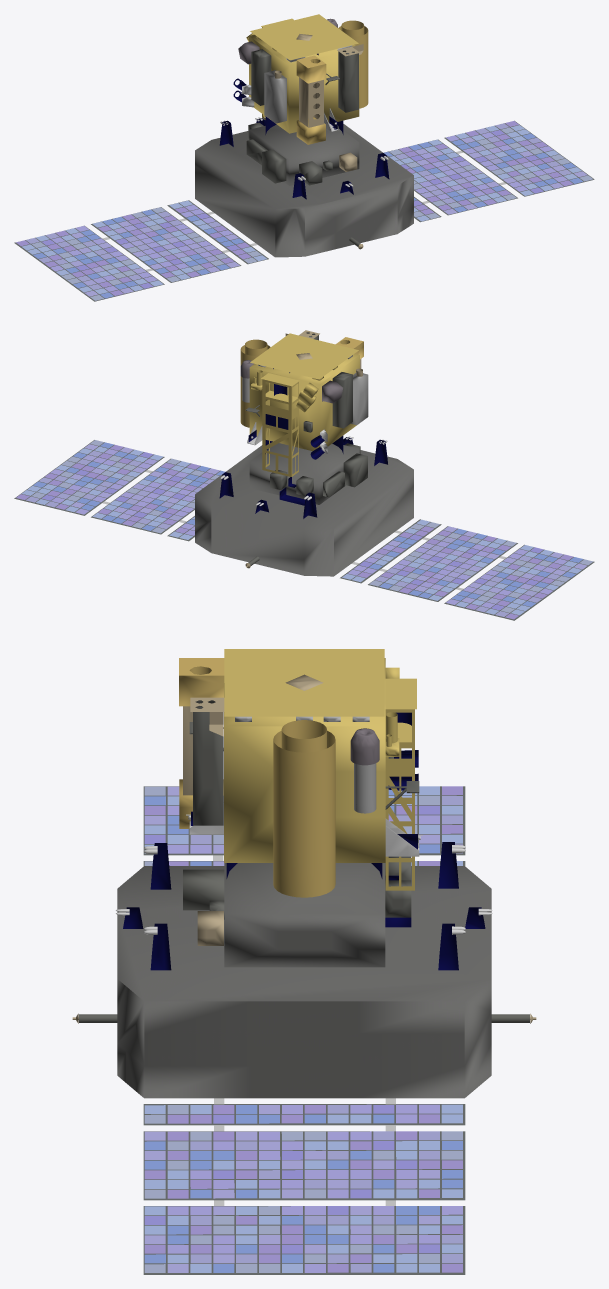
The model's file is soho.glb.
The picture shows the model from 3 angles, top to bottom: view 1: azimuth 30°, elevation 25°; view 2: azimuth 150°, elevation 25°; view 3: azimuth 270°, elevation 25°; orthographic projection. The views are drawn at different scales.
Visible parts, largest first — view 1: Fake; view 2: Fake; view 3: Fake.
Part boxes in pixels (bbox=[...]): Fake: bbox=[14, 14, 594, 301]; Fake: bbox=[14, 330, 594, 620]; Fake: bbox=[72, 649, 536, 1274].
Size of the model in its own units: 43.27 by 14.43 by 17.34.
Materials: 1 (1 with a texture image).
